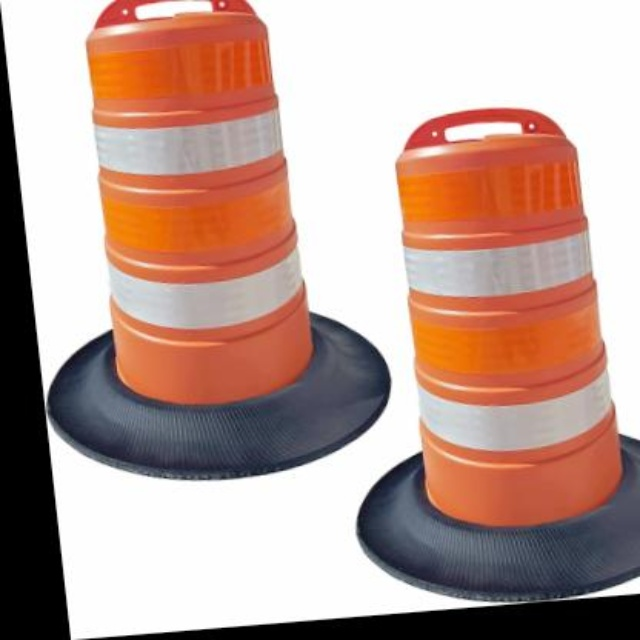obstacle: (65, 0, 326, 426), (373, 112, 626, 543)
